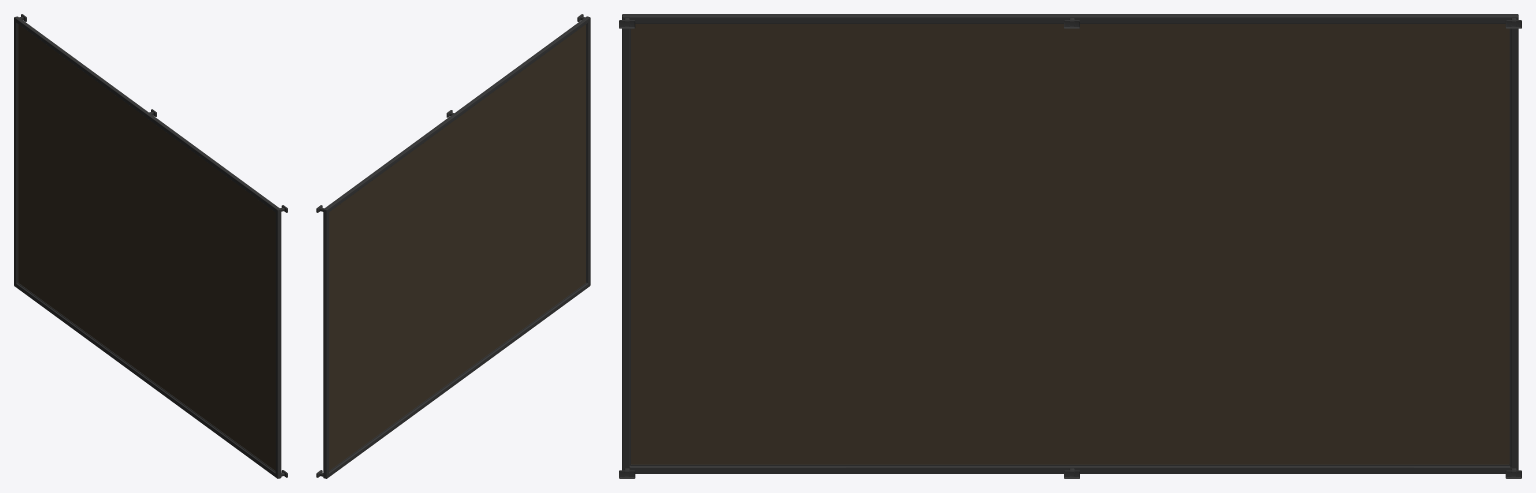
File: SM_GridWindow_Build04.fbx
3 renders of one model, left to right at view 1: azimuth 30°, elevation 25°; view 2: azimuth 150°, elevation 25°; view 3: azimuth 270°, elevation 25°, orthographic. The views are drawn at different scales.
Visible parts, largest first — view 1: SM_GridWindow_Build04_LOD0; view 2: SM_GridWindow_Build04_LOD0; view 3: SM_GridWindow_Build04_LOD0.
Part boxes in pixels (x1,y1,x2,y2): SM_GridWindow_Build04_LOD0: (14,14,287,478); SM_GridWindow_Build04_LOD0: (316,14,590,478); SM_GridWindow_Build04_LOD0: (619,14,1521,478).
Bounding box in the file's own units: 14.28 × 696 × 390.
